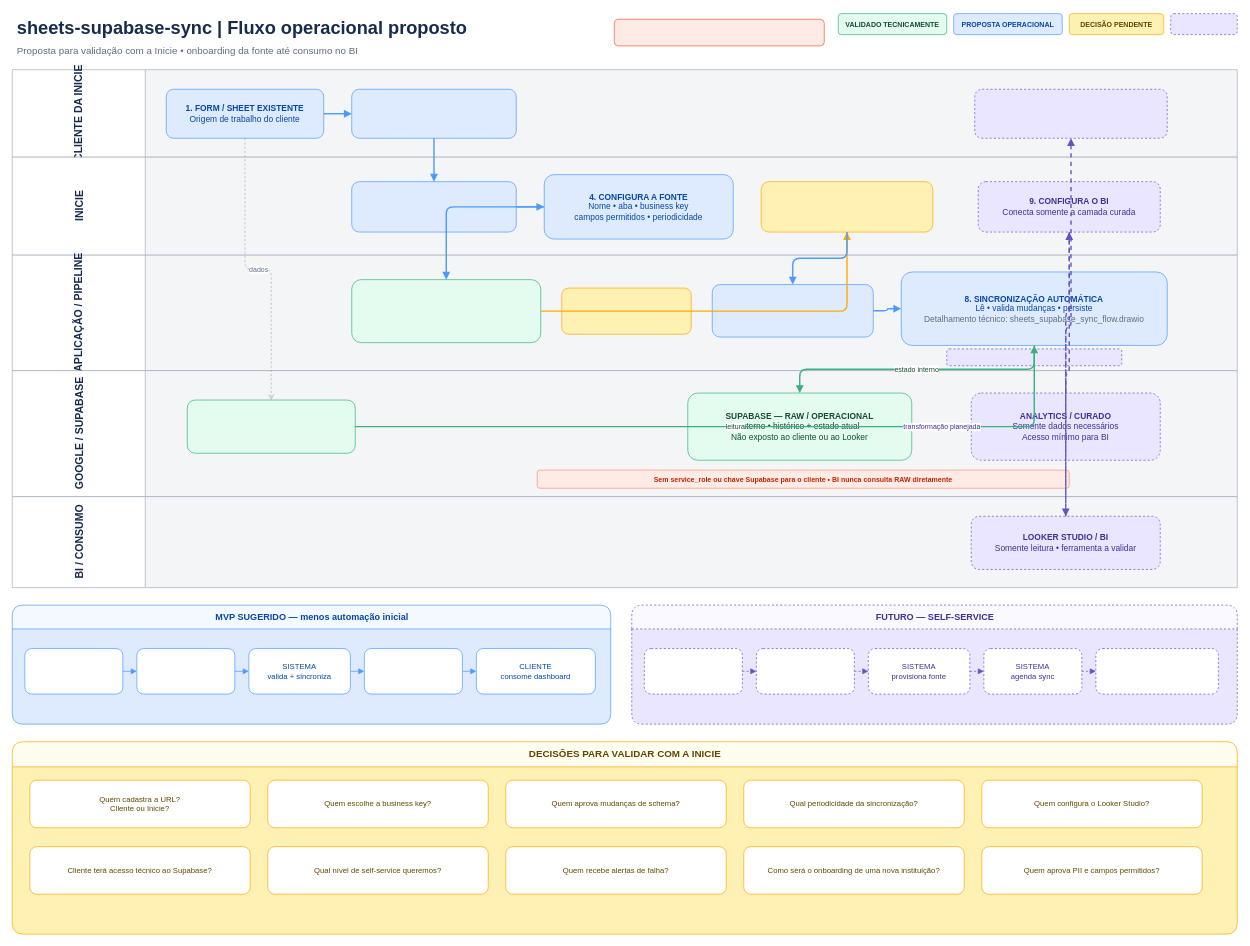
The diagram is 1250 pixels wide and 946 high, and some of its shapes have lost their labels. The shapes that lost their labels are listed below. From the top down, each one's centre as x and y in pixels, then its label:
At point (719, 32): "NÃO É FLUXO DEFINITIVO DE PRODUTO".
At point (1203, 24): "FUTURO".
At point (433, 113): "2. COMPARTILHA A SHEET Envia a URL para onboarding".
At point (1070, 113): "10. CONSOME O DASHBOARD Sem administrar banco de dados".
At point (433, 206): "3. CADASTRA NOVA FONTE Operação assistida no MVP".
At point (847, 206): "6. APROVA ATIVAÇÃO E mudanças de schema".
At point (446, 311): "5. VALIDA A FONTE URL • leitura • aba • headers Contrato da fonte".
At point (626, 310): "PII / campos permitidos aprovação pendente".
At point (792, 310): "7. FONTE ATIVADA Após validação e aprovação".
At point (1034, 357): "Agendamento regular: FUTURO".
At point (271, 426): "GOOGLE SHEETS Acesso somente leitura".
At point (73, 671): "CLIENTE envia URL".
At point (185, 671): "INICIE configura fonte".
At point (413, 671): "INICIE conecta BI".
At point (693, 671): "CLIENTE cadastra URL".
At point (805, 671): "SISTEMA valida".
At point (1156, 671): "SISTEMA libera BI controlado".
